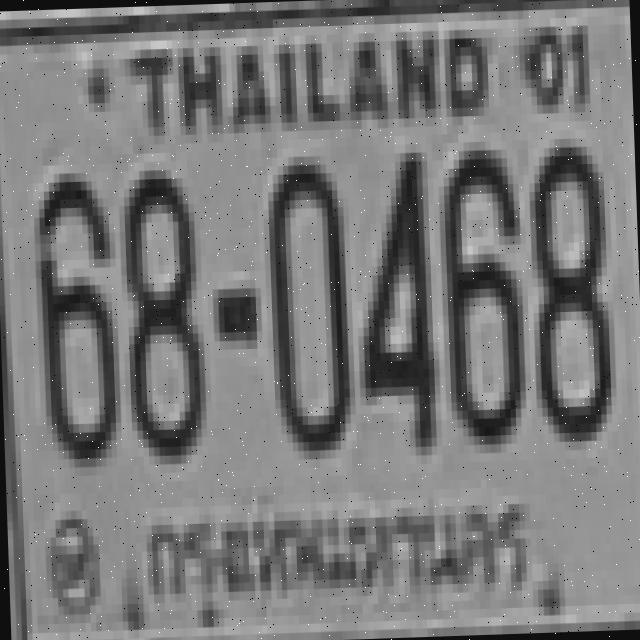0: (264, 151, 348, 447)
4: (351, 144, 431, 448)
6: (436, 140, 522, 437), (32, 163, 116, 459)
8: (524, 138, 610, 434), (117, 160, 202, 456)
Bangkok: (138, 488, 536, 626)
